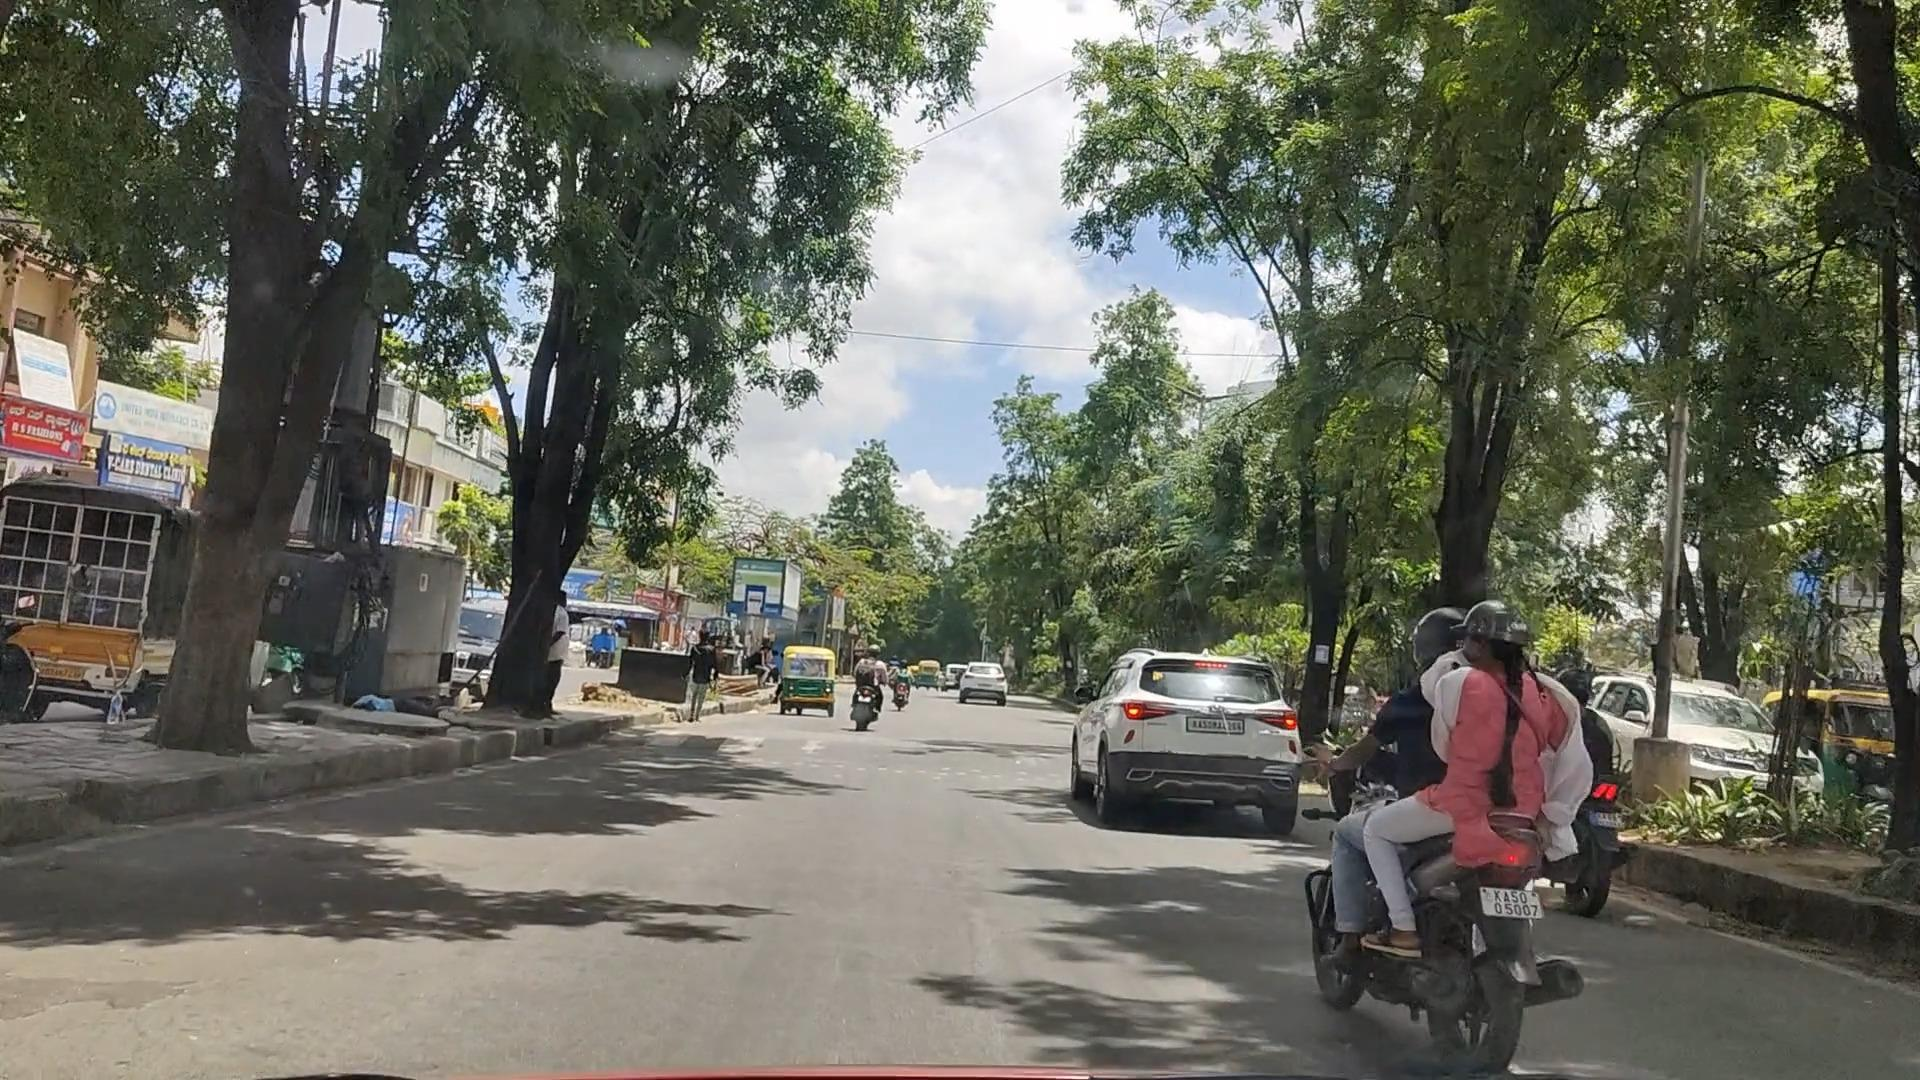LMV: (1374, 580, 1560, 1067), (1072, 653, 1303, 840)
SpeedBump: (633, 721, 1063, 767)
